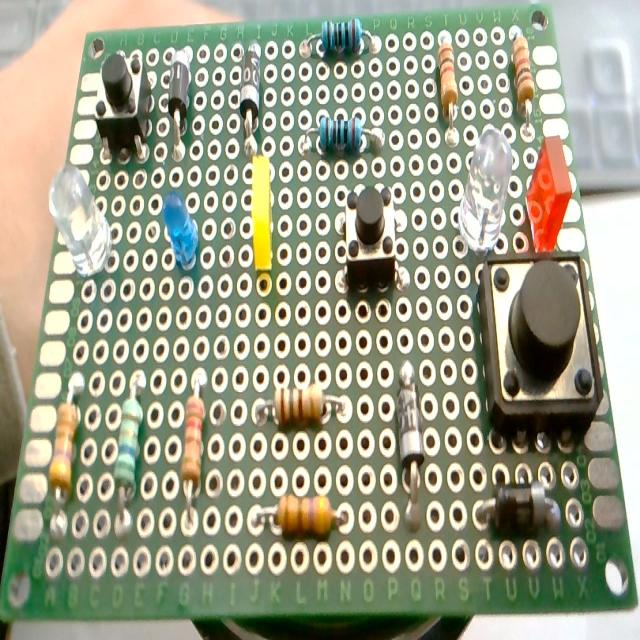diode: (392, 355, 432, 521), (472, 474, 564, 537), (236, 36, 268, 146), (164, 42, 193, 163)
led: (50, 158, 118, 286), (454, 137, 509, 251), (241, 160, 287, 292), (527, 130, 573, 250), (162, 198, 213, 278)
resistor: (116, 358, 150, 519), (48, 375, 90, 500), (253, 495, 348, 539), (180, 369, 208, 518), (255, 385, 347, 428), (298, 15, 382, 61), (303, 114, 382, 158), (436, 33, 460, 147), (512, 32, 533, 108)
switch: (477, 252, 601, 438), (338, 183, 413, 287), (94, 50, 154, 163)
